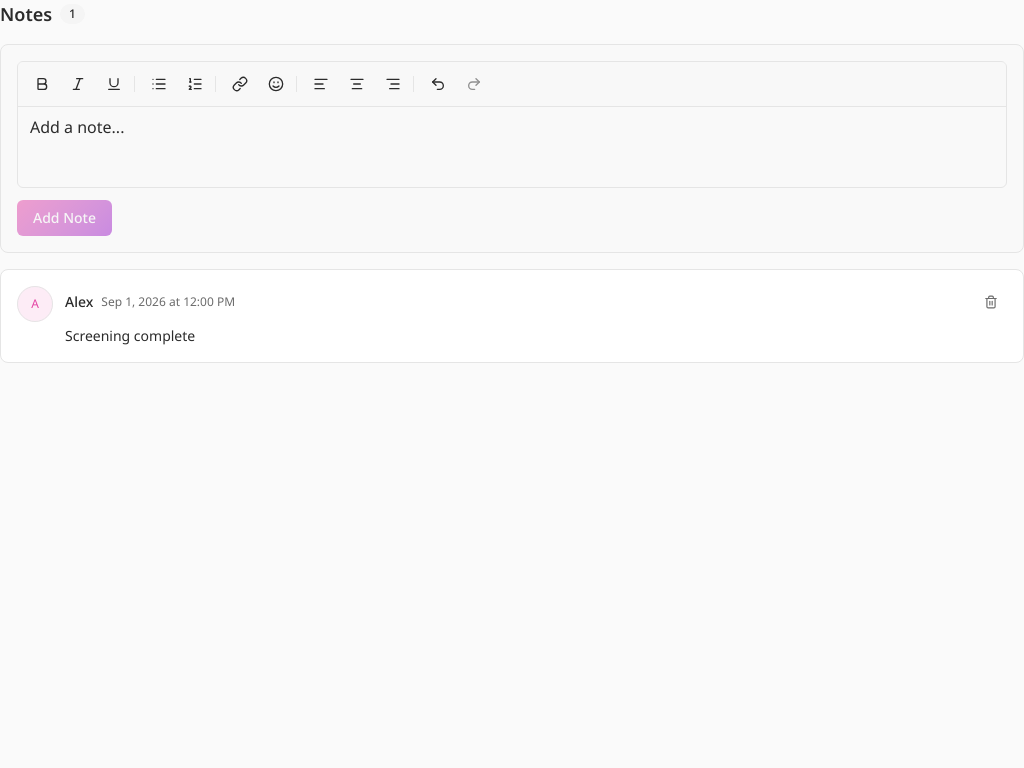
Test case: EntityNotes › requires a reviewable delete dialog and retains it on failure
What coordinates should you click on to do the following:
click the button named "Delete note by Alex"
I would click on:
 (991, 302)
Its box is [975,286,1007,318].
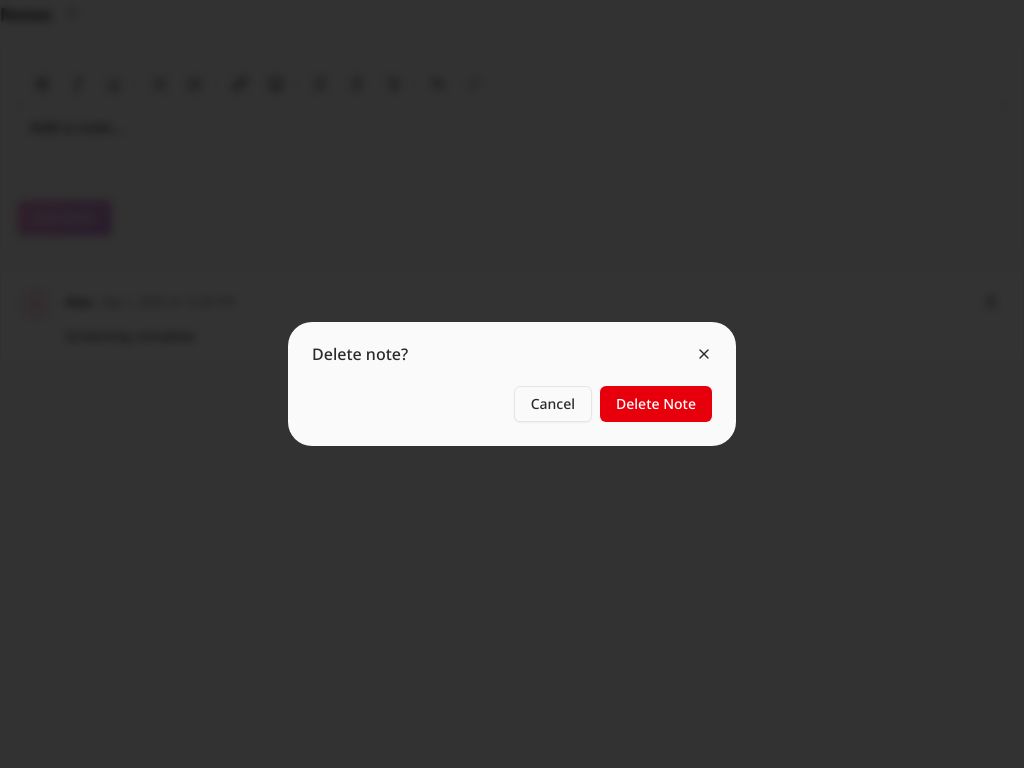
What coordinates should you click on to do the following:
click the button "Delete Note"
I would click on:
 (656, 404)
Its box is [600,386,712,422].
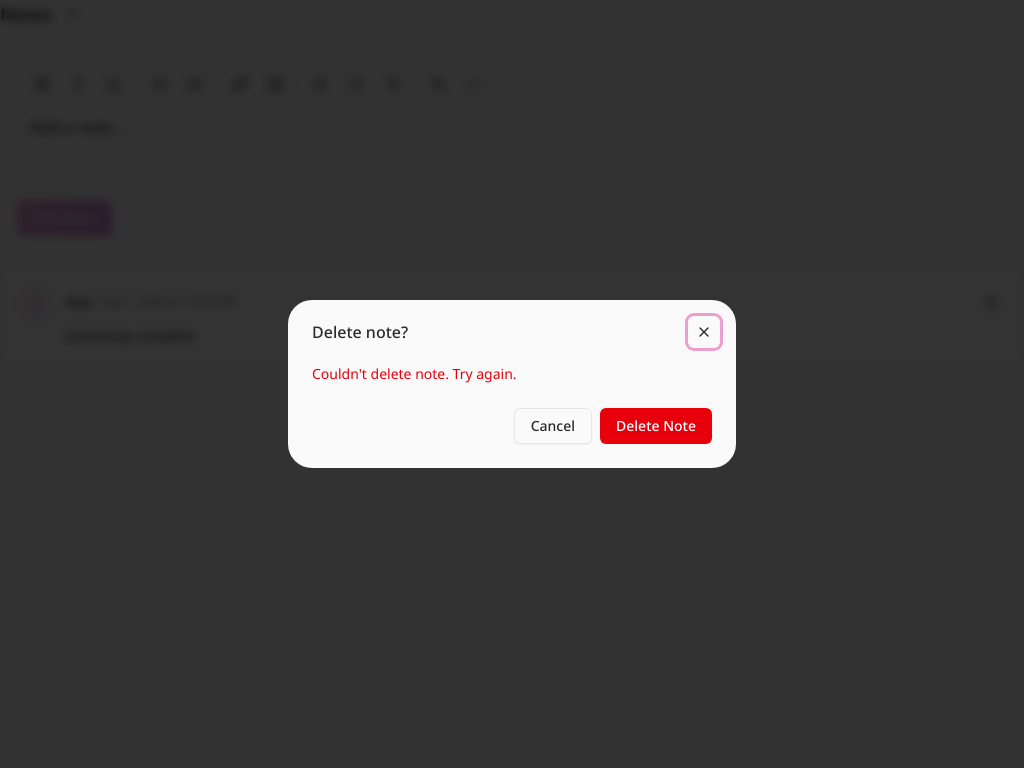
Now the message reads "Couldn't delete note. Try again.", box [312,364,517,383]
What coordinates should you click on to do the following:
click the button "Delete Note"
I would click on:
 (656, 426)
Its box is [600,408,712,444].
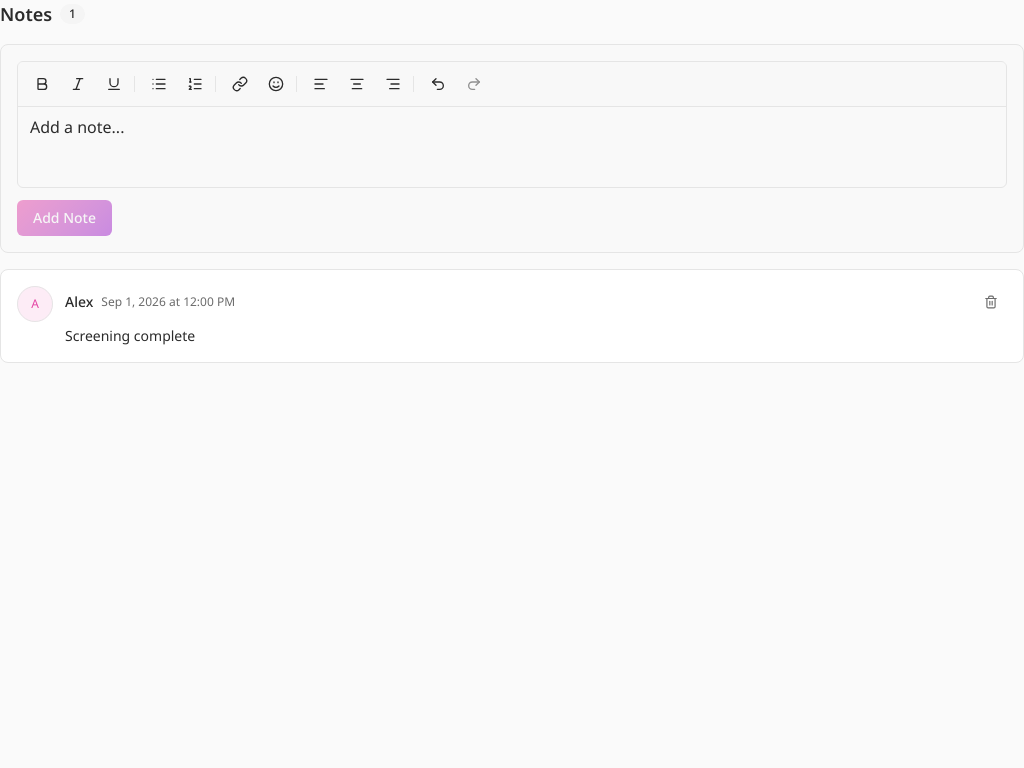
Now the dialog is gone
